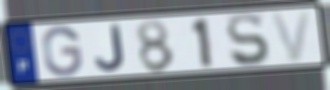1: (190, 16, 214, 70)
8: (135, 18, 177, 73)
G: (41, 24, 84, 78)
J: (94, 22, 128, 73)
S: (224, 11, 272, 68)
V: (268, 8, 313, 64)
